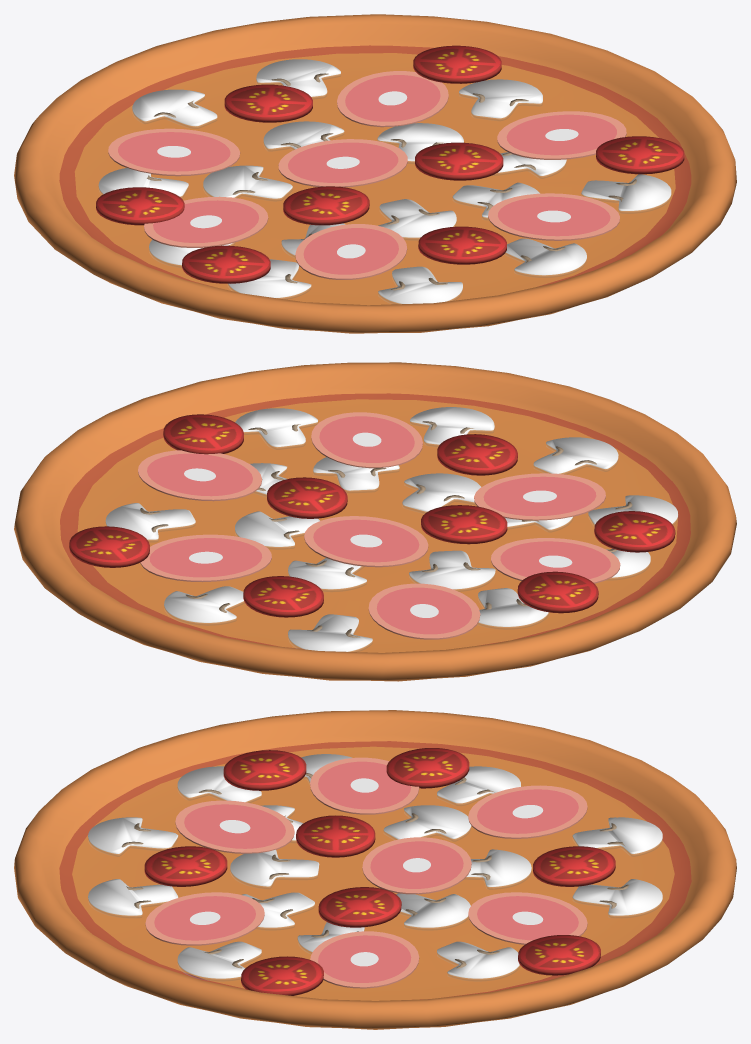
File: pizza_z_szynka_pieczarki_pomidor.gltf
3 renders of one model, top to bottom at view 1: azimuth 30°, elevation 25°; view 2: azimuth 150°, elevation 25°; view 3: azimuth 270°, elevation 25°, orthographic.
Visible parts, largest first — view 1: Cylinder, Circle.002, Circle.001, Sphere.003, Sphere.005, Sphere.001, Sphere.002, Circle.005, Circle.004, Circle.006, Circle.007, Circle.008 (+3 smaller); view 2: Cylinder, Circle.002, Circle.001, Sphere.003, Sphere.005, Sphere.001, Sphere.002, Circle.003, Circle.008, Circle.009, Circle.004, Circle.005 (+3 smaller); view 3: Cylinder, Circle.002, Circle.001, Sphere.003, Sphere.005, Sphere.001, Sphere.002, Circle.006, Circle.004, Circle.009, Circle.005, Circle.003 (+3 smaller).
Boxes of the visible parts, left/top/right/bottom form: Cylinder: left=14, top=14, right=736, bottom=333; Circle.002: left=59, top=45, right=691, bottom=304; Circle.001: left=75, top=53, right=675, bottom=305; Sphere.003: left=98, top=59, right=671, bottom=303; Sphere.005: left=108, top=71, right=619, bottom=279; Sphere.001: left=144, top=111, right=626, bottom=247; Sphere.002: left=278, top=139, right=407, bottom=187; Circle.005: left=224, top=84, right=312, bottom=122; Circle.004: left=415, top=142, right=503, bottom=180; Circle.006: left=418, top=226, right=506, bottom=264; Circle.007: left=596, top=136, right=684, bottom=174; Circle.008: left=413, top=45, right=501, bottom=83; Cylinder: left=14, top=362, right=736, bottom=681; Circle.002: left=60, top=393, right=690, bottom=652; Circle.001: left=77, top=399, right=677, bottom=652; Sphere.003: left=105, top=407, right=678, bottom=651; Sphere.005: left=140, top=412, right=605, bottom=639; Sphere.001: left=138, top=450, right=620, bottom=583; Sphere.002: left=304, top=516, right=428, bottom=567; Circle.003: left=421, top=505, right=507, bottom=544; Circle.008: left=69, top=526, right=149, bottom=567; Circle.009: left=594, top=511, right=675, bottom=552; Circle.004: left=267, top=477, right=347, bottom=518; Circle.005: left=243, top=576, right=323, bottom=617; Cylinder: left=14, top=710, right=736, bottom=1029; Circle.002: left=59, top=741, right=691, bottom=1000; Circle.001: left=72, top=746, right=674, bottom=1000; Sphere.003: left=88, top=754, right=662, bottom=980; Sphere.005: left=145, top=785, right=587, bottom=945; Sphere.001: left=310, top=757, right=419, bottom=988; Sphere.002: left=362, top=837, right=471, bottom=894; Circle.006: left=144, top=846, right=227, bottom=886; Circle.004: left=318, top=887, right=401, bottom=927; Circle.009: left=223, top=750, right=306, bottom=790; Circle.005: left=533, top=846, right=615, bottom=886; Circle.003: left=296, top=815, right=375, bottom=857.
Bounding box in the file's own units: 1.44 × 0.0648 × 1.44.
10 materials, 10 textured.
